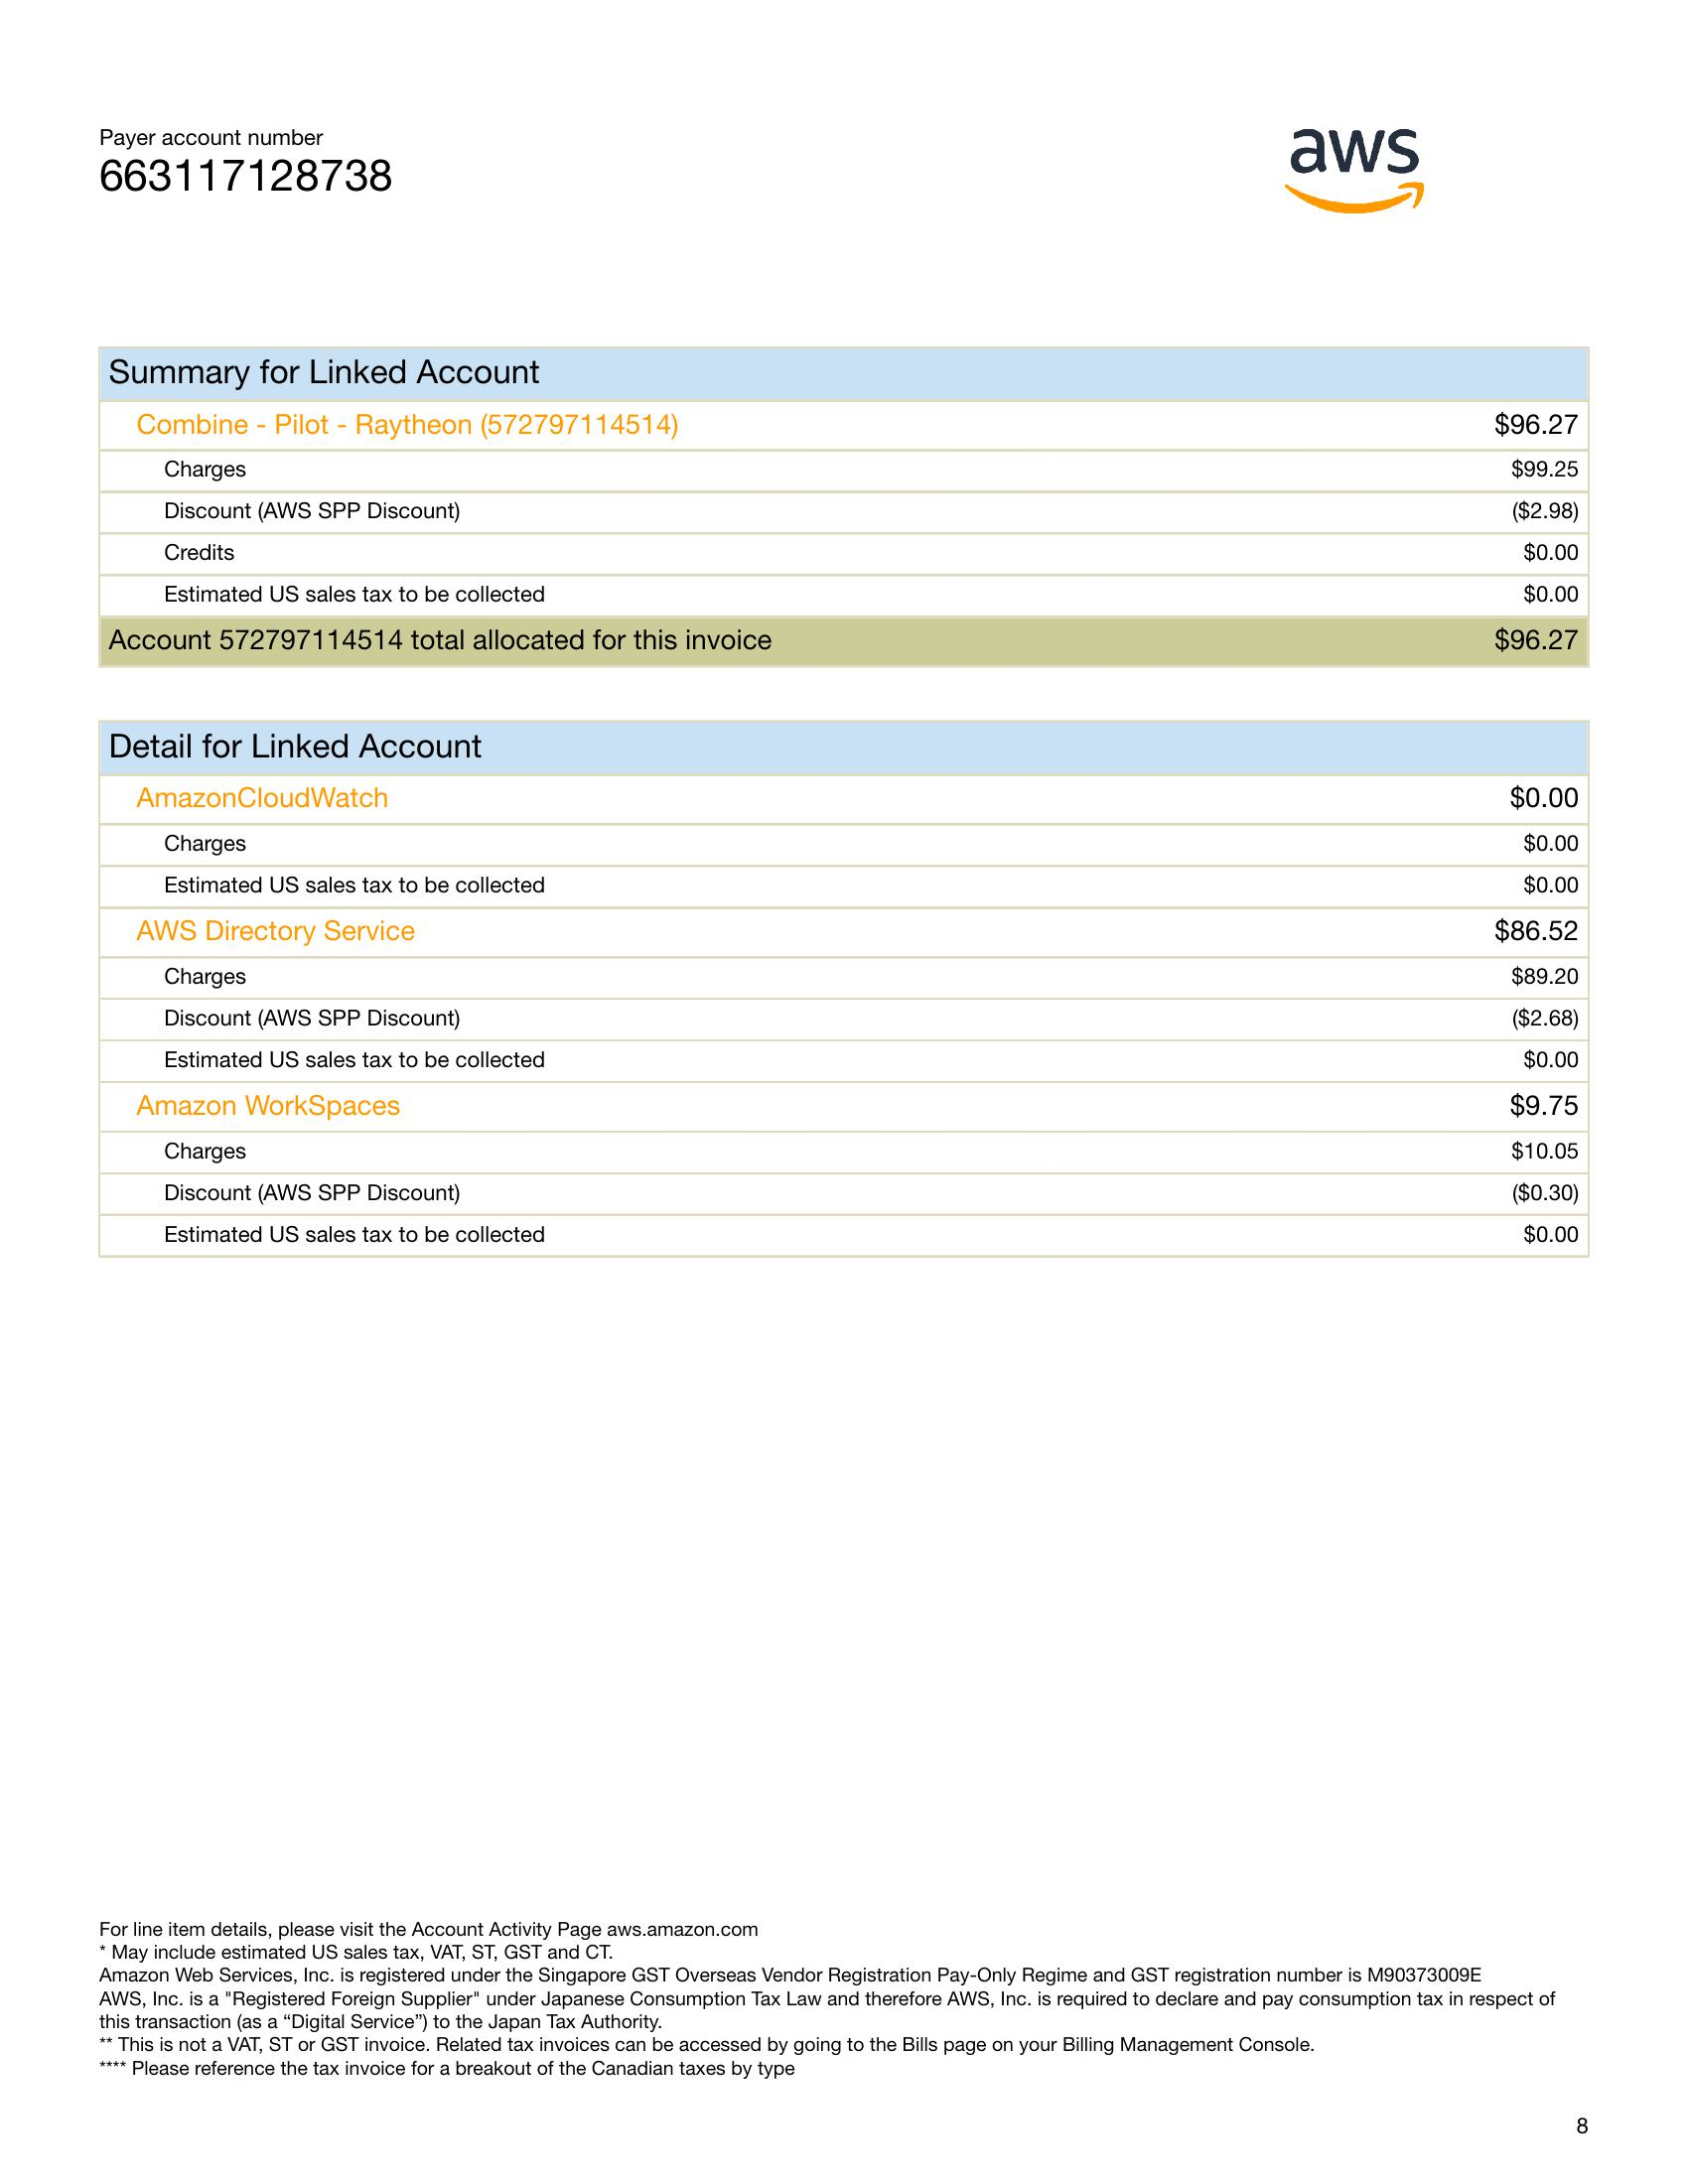table: (83, 713, 1606, 1283), (90, 340, 1606, 665)
